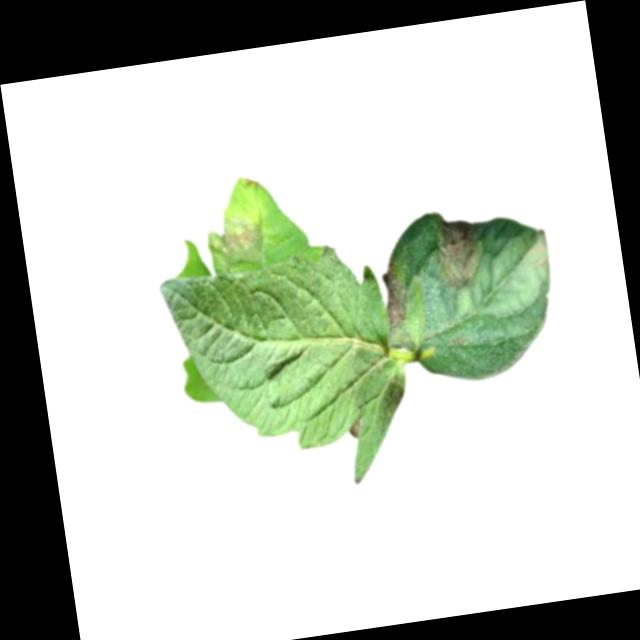Late_blight: (428, 208, 490, 292), (203, 208, 269, 273), (379, 257, 413, 336), (376, 371, 411, 417), (347, 419, 363, 441)
